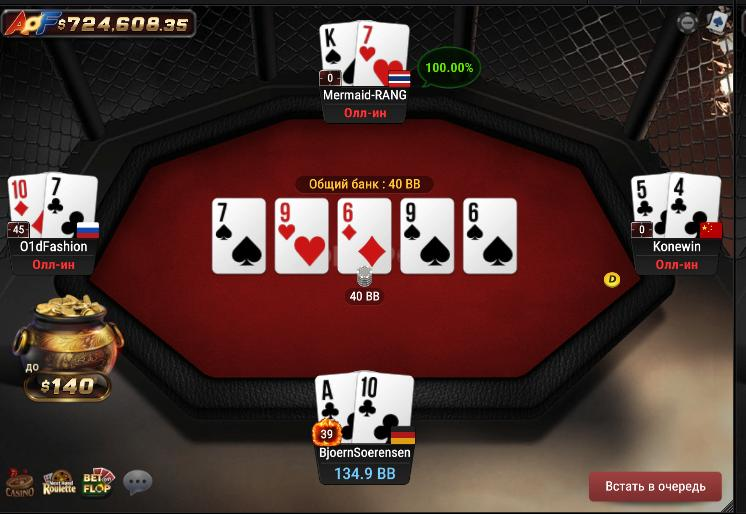10c: (355, 371, 414, 445)
10d: (6, 173, 46, 239)
4c: (666, 172, 720, 239)
5c: (631, 175, 667, 241)
6d: (339, 199, 390, 275)
6s: (464, 200, 516, 272)
7c: (45, 171, 97, 236)
7h: (357, 19, 409, 88)
7s: (213, 197, 266, 274)
9h: (276, 199, 329, 273)
9s: (401, 198, 454, 274)
Ac: (314, 374, 354, 445)
Ks: (318, 21, 357, 89)
